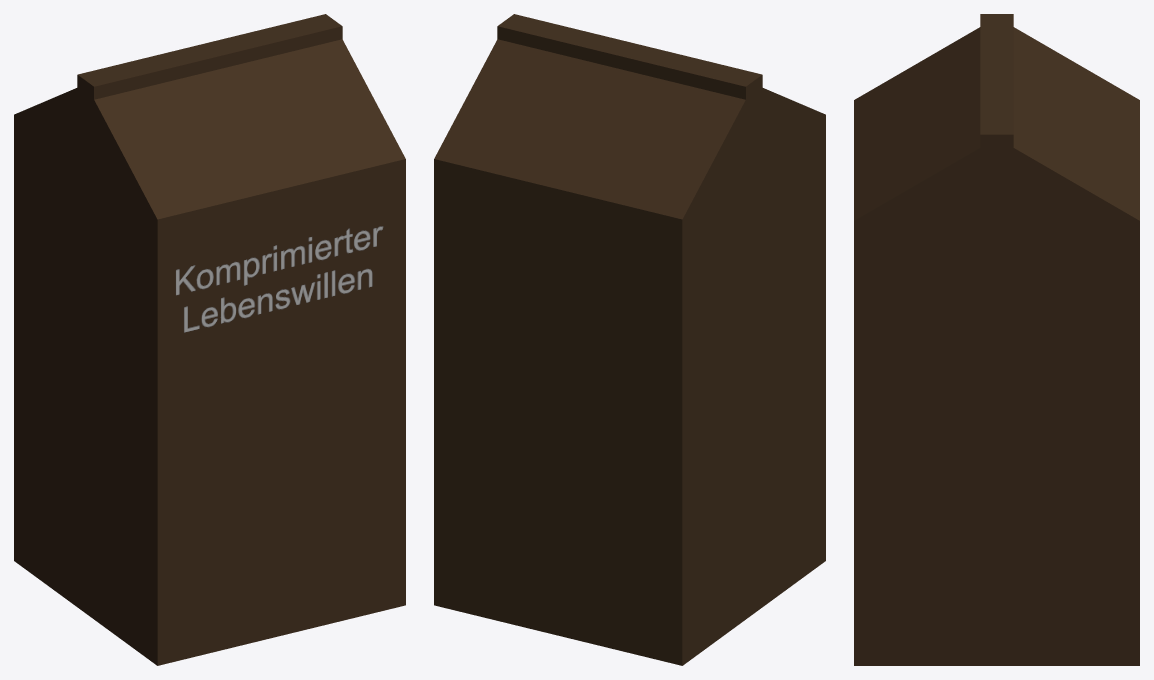
Rendered from Kaffee_Packung.fbx.
3 renders of one model, left to right at view 1: azimuth 30°, elevation 25°; view 2: azimuth 150°, elevation 25°; view 3: azimuth 270°, elevation 25°, orthographic.
Visible parts, largest first — view 1: Cube; view 2: Cube; view 3: Cube.
Boxes of the visible parts, left/top/right/bottom form: Cube: left=14, top=14, right=405, bottom=665; Cube: left=434, top=14, right=825, bottom=665; Cube: left=854, top=14, right=1139, bottom=665.
Size of the model in its own units: 20 by 41 by 20.
